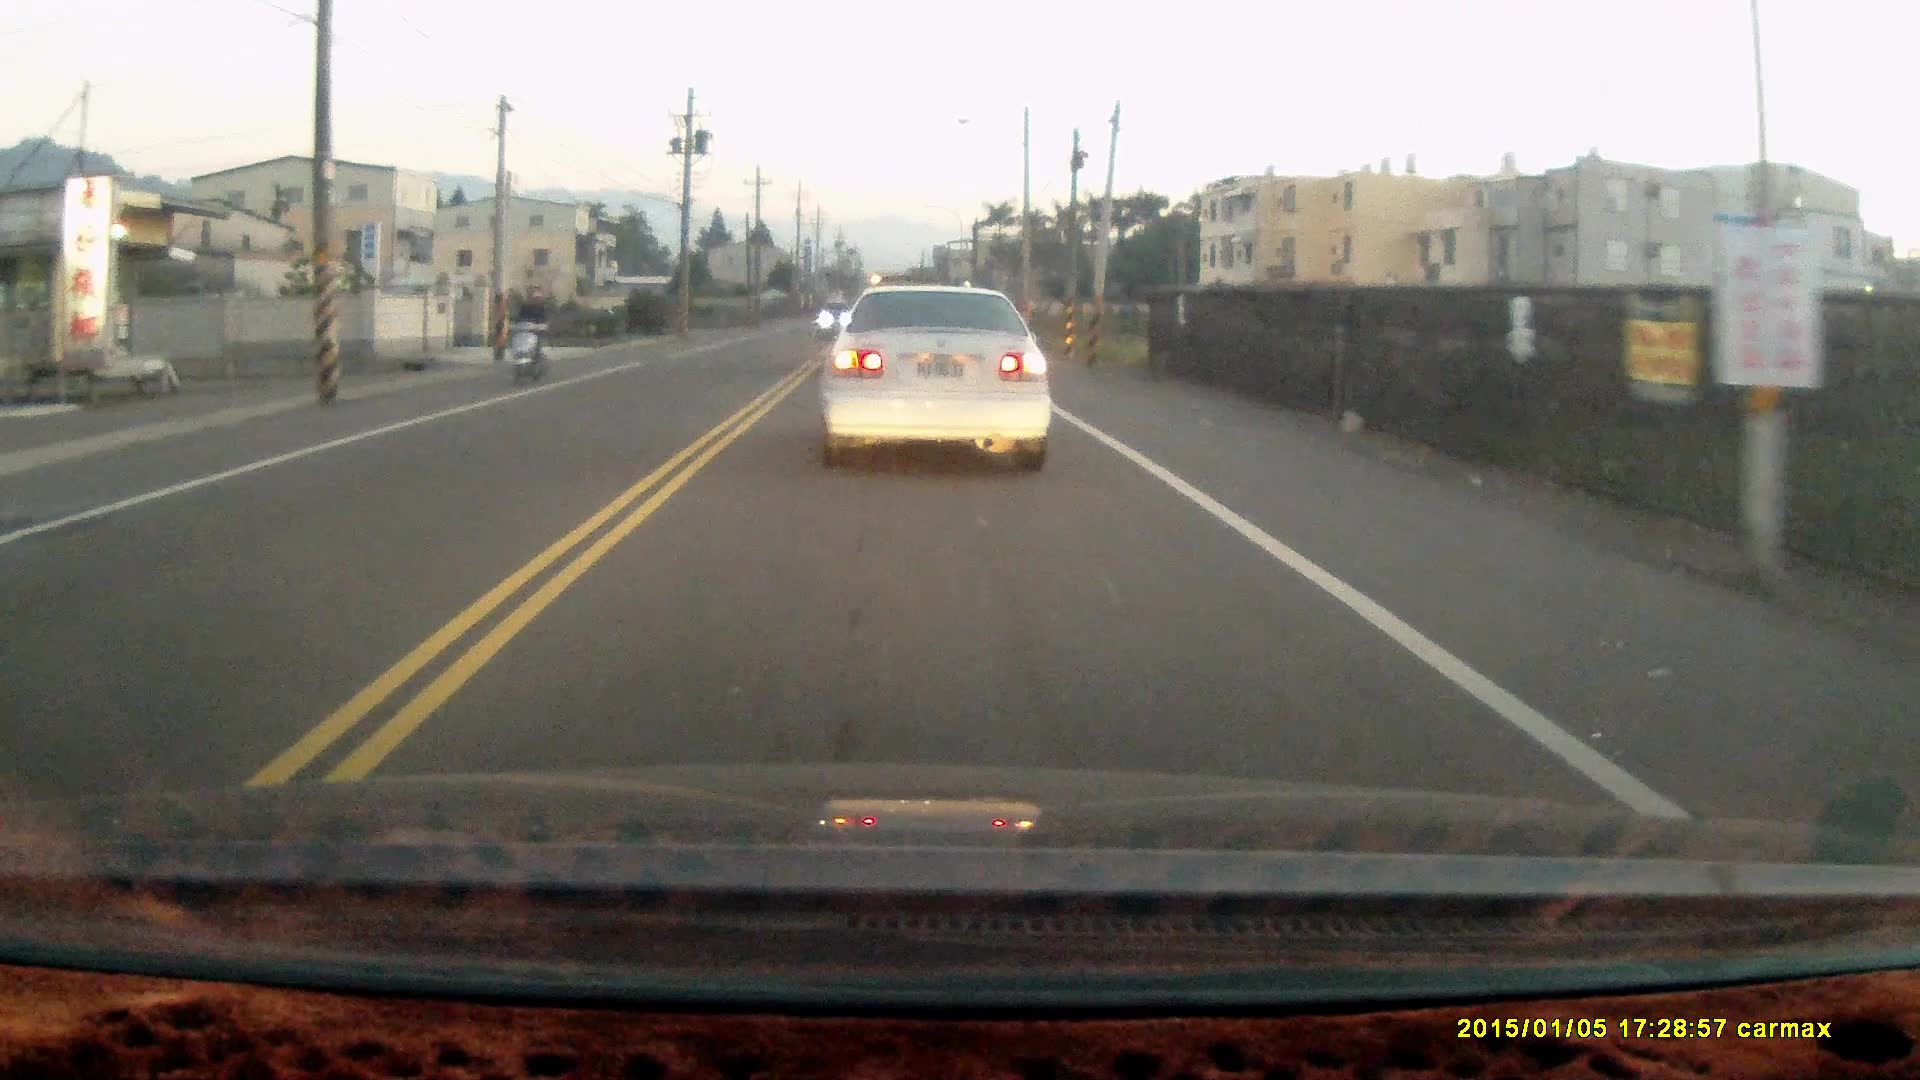rider: (505, 286, 551, 391)
vehicle: (816, 280, 1055, 473)
